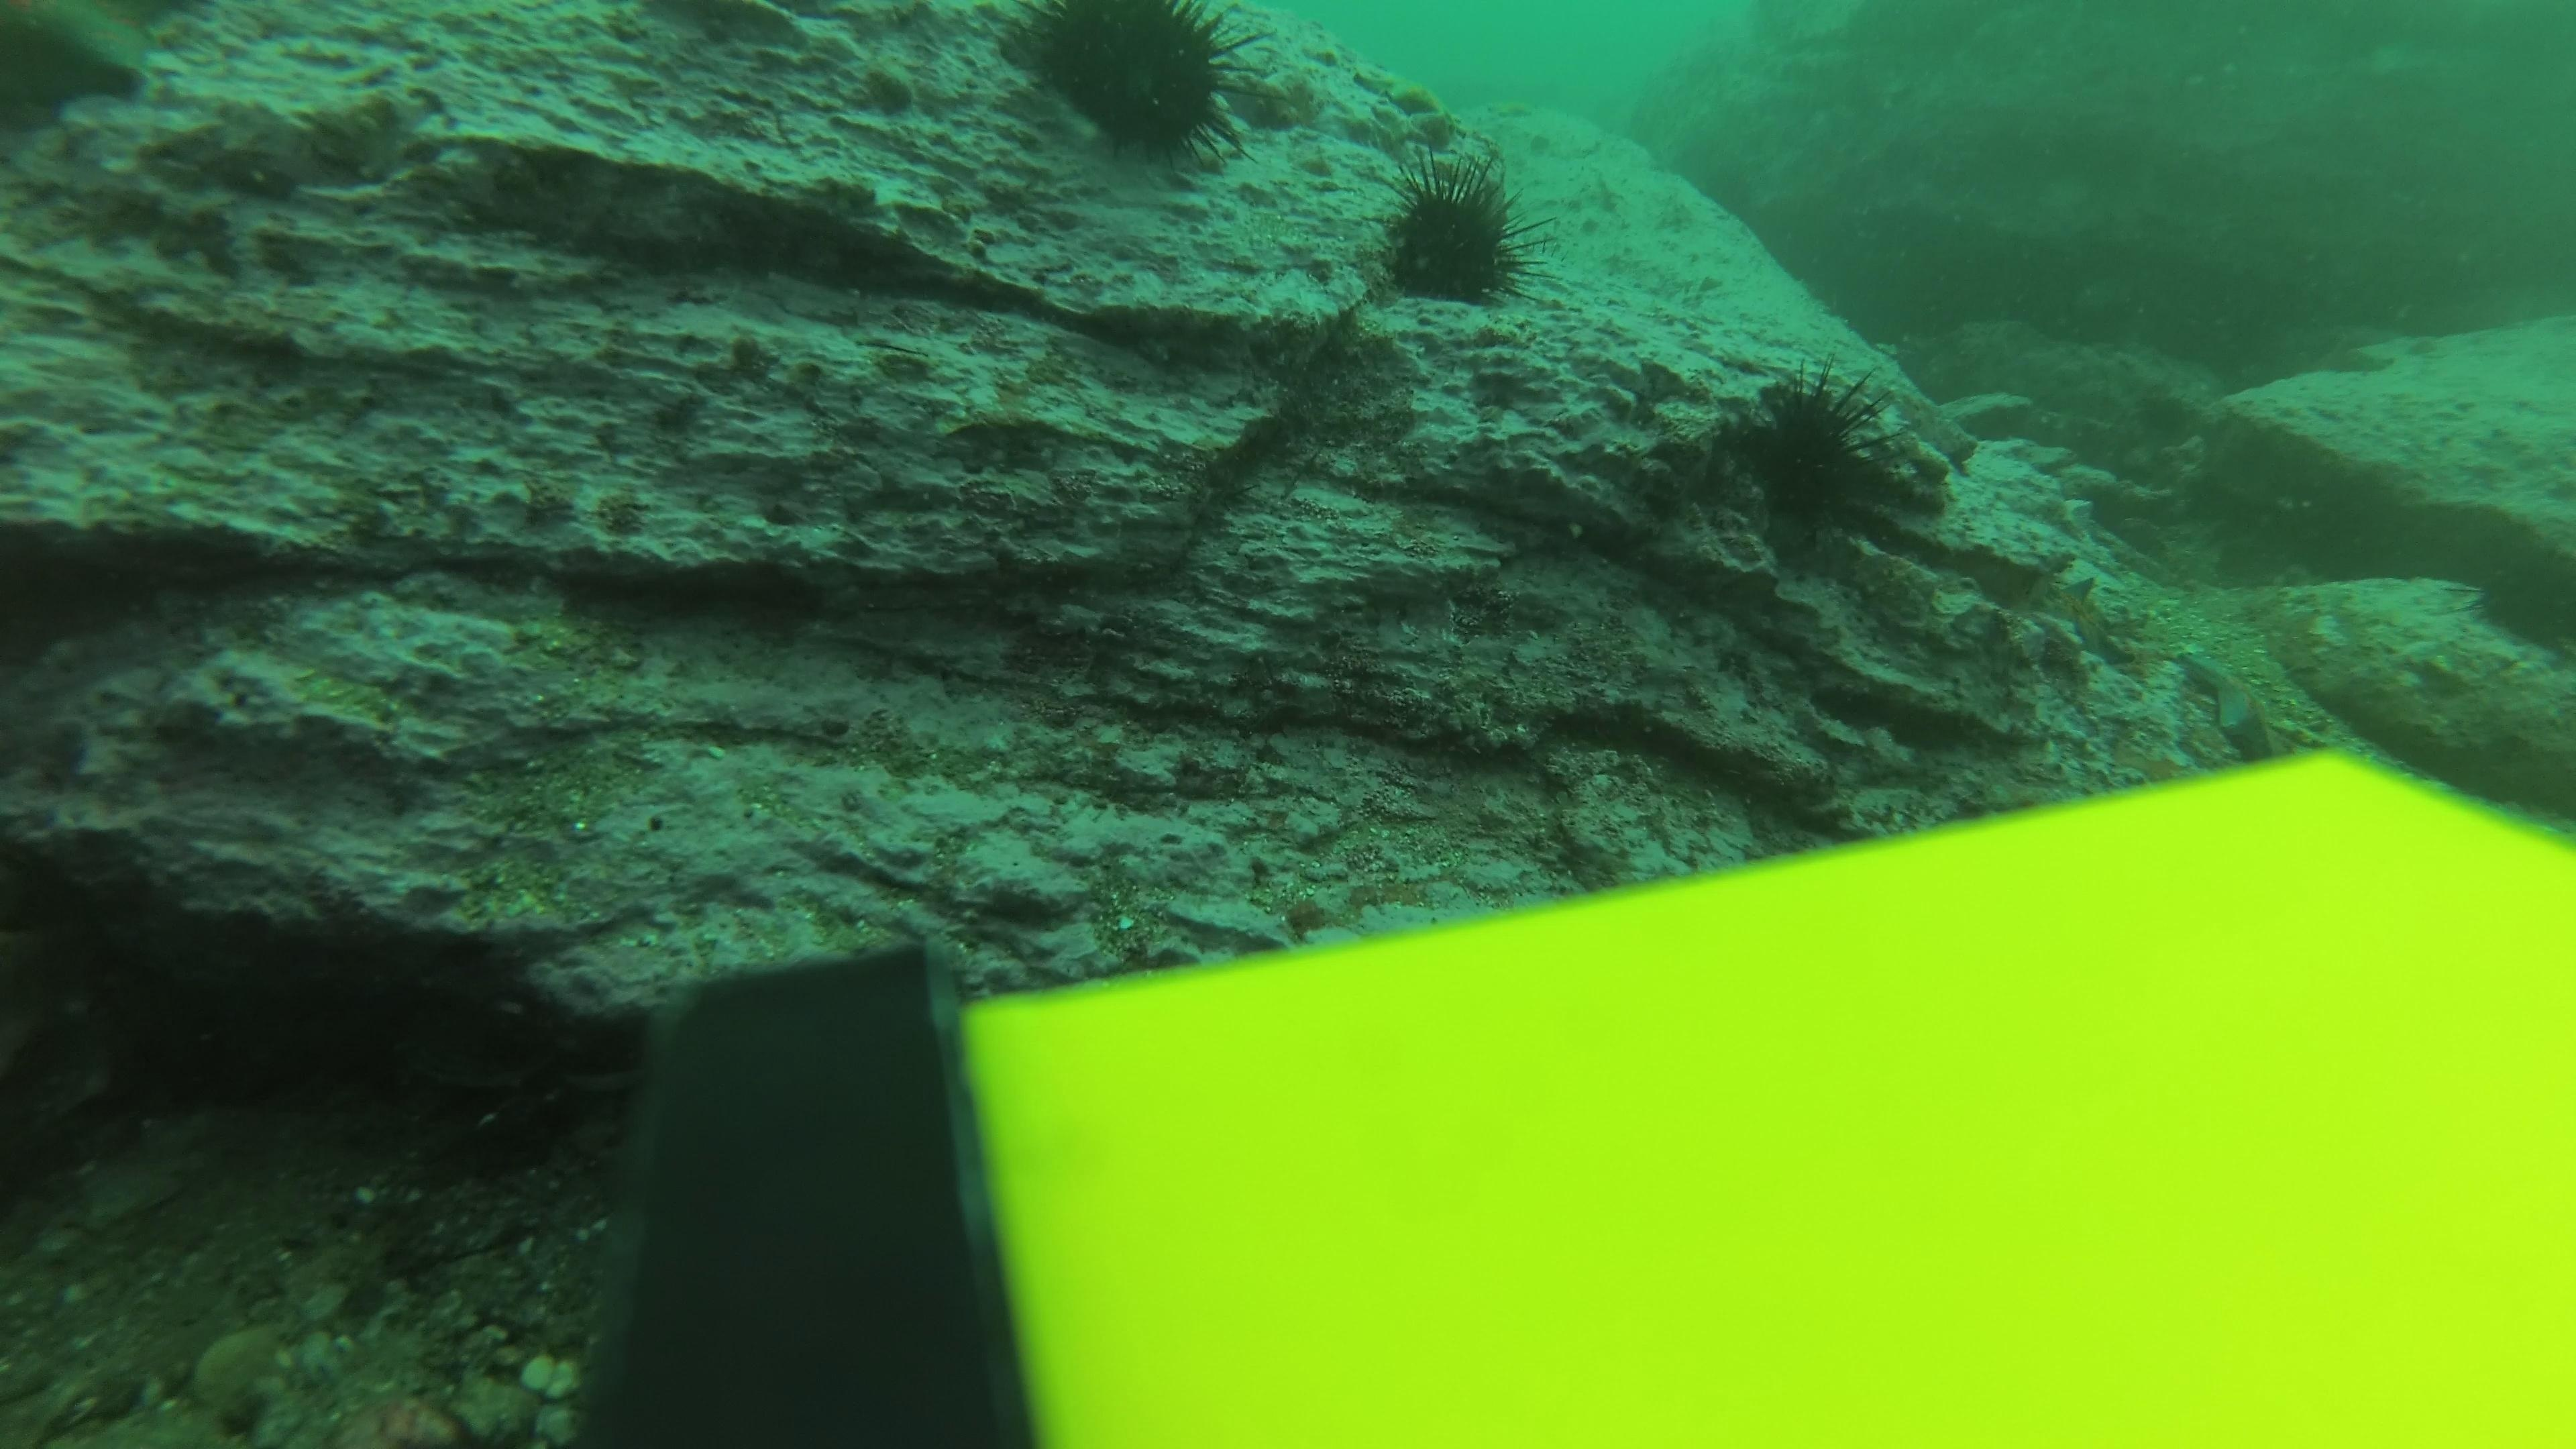echinus: (1005, 0, 1269, 177), (1718, 357, 1918, 552), (1369, 150, 1545, 317)
starfish: (2167, 640, 2295, 764), (2031, 566, 2143, 671), (1343, 58, 1468, 134)
